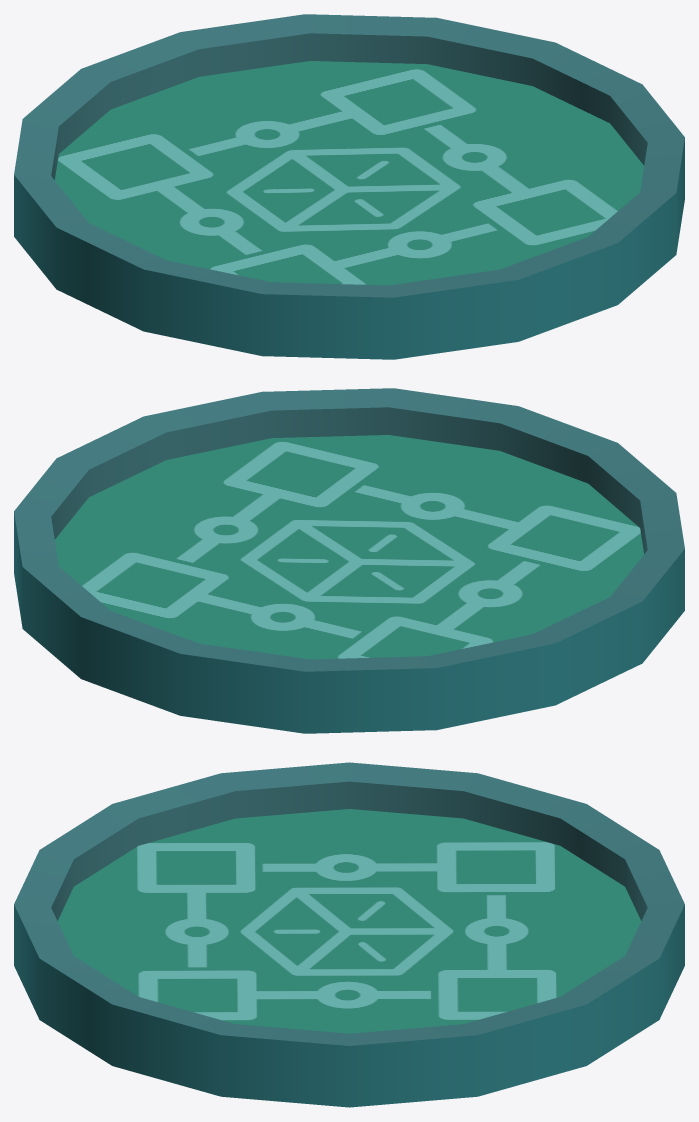
Rendered from Coin2.fbx.
3 renders of one model, top to bottom at view 1: azimuth 30°, elevation 25°; view 2: azimuth 150°, elevation 25°; view 3: azimuth 270°, elevation 25°, orthographic.
Parts seen in each view (by area): view 1: Circle.002; view 2: Circle.002; view 3: Circle.002.
Boxes of the visible parts, x1=… form: Circle.002: x1=14, y1=14, x2=684, y2=359; Circle.002: x1=14, y1=388, x2=684, y2=733; Circle.002: x1=14, y1=762, x2=684, y2=1107.
Bounding box in the file's own units: 225 × 22.76 × 225.
